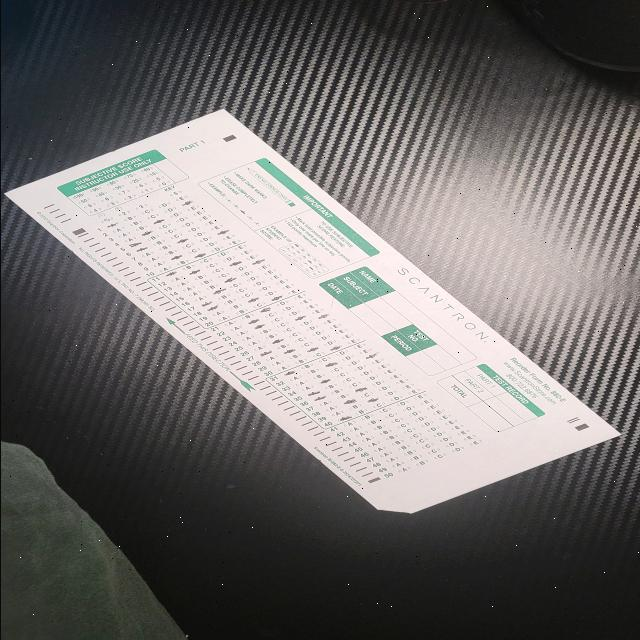scantron: (2, 108, 622, 514)
